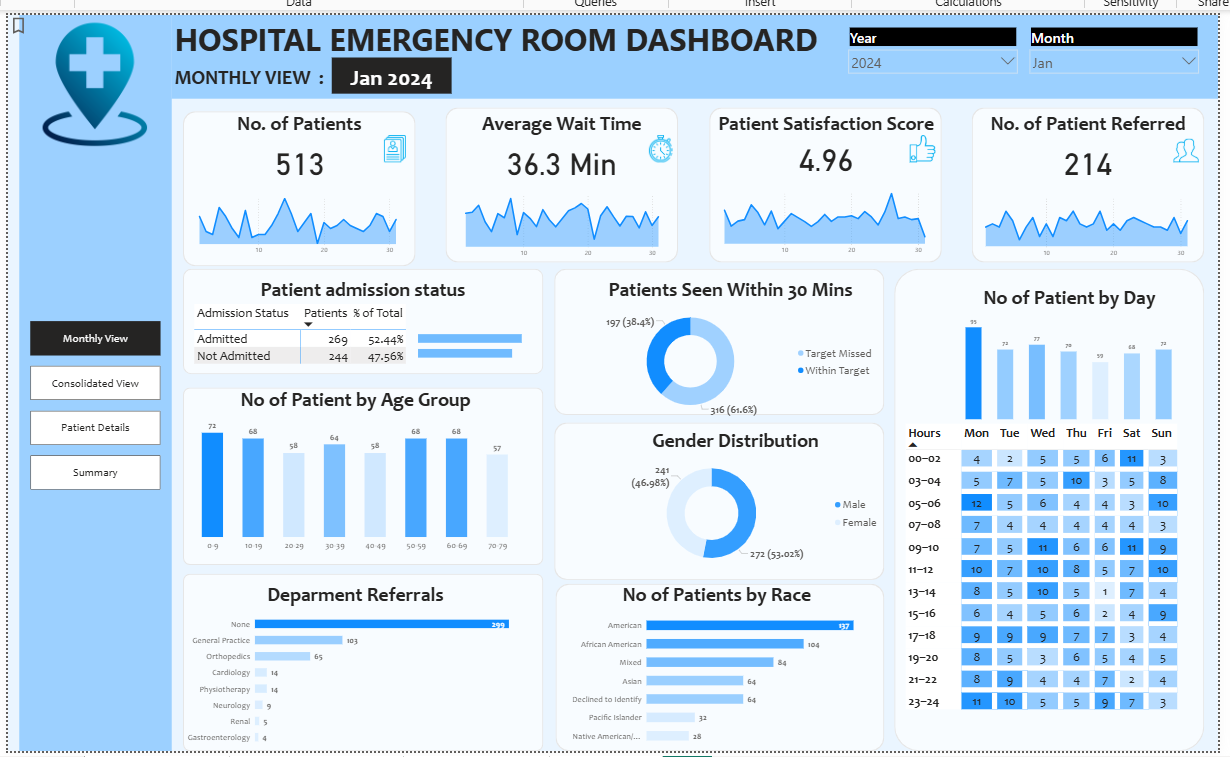

This screenshot's page, from the dashboard's own definition file:
{"tool":"powerbi","page":{"name":"Monthly View","canvas":[2302,1400],"ordinal":0},"visuals":[{"type":"shape","box":[21.4,0,290.1,1400.5],"z":0},{"type":"shape","box":[311.5,0,1990.2,159.3],"z":1000},{"type":"textbox","box":[310.8,0,1265.3,90.6],"z":2000},{"type":"textbox","box":[311.5,90.4,304.3,69],"z":3000},{"type":"slicer","fields":{"Values":["Date Table.year"]},"box":[1588.3,19,342.4,121.3],"z":4000},{"type":"slicer","fields":{"Values":["Date Table.Month Name"]},"box":[1933.1,19,342.4,121.3],"z":5000},{"type":"shape","box":[332.9,183.1,442.3,294.8],"z":6000},{"type":"card","title":"No. of Patients","fields":{"Values":["All measures.No of Patient"]},"box":[389.9,183.1,328.1,140.3],"z":7000},{"type":"areaChart","fields":{"Category":["Date Table.Date.Variation.Date Hierarchy.Day"],"Y":["All measures.No of Patient"]},"box":[350,335.3,403.8,129.7],"z":8000},{"type":"card","fields":{"Values":["Min(Date Table.month and year)"]},"box":[615.8,80.8,228.3,69],"z":9000},{"type":"shape","box":[833,176,442.3,294.8],"z":10000},{"type":"shape","box":[1833.2,176,442.3,294.8],"z":11000},{"type":"shape","box":[1333.1,176,442.3,294.8],"z":12000},{"type":"card","title":"Average Wait Time","fields":{"Values":["All measures.Average wait time"]},"box":[889.3,183.1,328.1,140.3],"z":13000},{"type":"card","title":"No. of Patient Referred","fields":{"Values":["All measures.No. of Patient Referred"]},"box":[1861.8,183.1,385.2,142.7],"z":14000},{"type":"areaChart","fields":{"Category":["Date Table.Date.Variation.Date Hierarchy.Day"],"Y":["Avg(hospital data.Patient Waittime)"]},"box":[856.6,327.9,396.5,141.9],"z":15000},{"type":"card","title":"Patient Satisfaction Score","fields":{"Values":["All measures.Patient Satisfaction score"]},"box":[1336.3,183.1,439.9,126],"z":16000},{"type":"areaChart","fields":{"Y":["All measures.Patient Satisfaction score"],"Category":["Date Table.Date.Variation.Date Hierarchy.Day"]},"box":[1348.5,325.5,411.2,139.5],"z":17000},{"type":"areaChart","fields":{"Category":["Date Table.Date.Variation.Date Hierarchy.Day"],"Y":["All measures.No. of Patient Referred"]},"box":[1845.3,335.3,413.6,134.6],"z":18000},{"type":"shape","box":[332.8,482.1,685.3,200.7],"z":19000},{"type":"pivotTable","title":"Patient admission status","fields":{"Rows":["hospital data.Patient Admission status"],"Values":["All measures.No of Patient","Divide(All measures.No of Patient, ScopedEval(All measures.No of Patient, []))"]},"box":[350,499.3,651,210.5],"z":20000},{"type":"clusteredBarChart","title":"Patient admission status","fields":{"Category":["hospital data.Patient Admission status"],"Y":["All measures.No of Patient"]},"box":[775.8,580,230,93],"z":21000},{"type":"shape","box":[332.8,709.7,685.3,337.7],"z":22000},{"type":"clusteredColumnChart","fields":{"Category":["hospital data.Age Group"],"Y":["All measures.No of Patient"]},"box":[332.9,708.6,656.3,318.6],"z":23000},{"type":"shape","box":[332.8,1062.1,685.3,337.7],"z":24000},{"type":"clusteredBarChart","title":"Deparment  Referrals","fields":{"Category":["hospital data.Department Referral"],"Y":["All measures.No of Patient"]},"box":[332.8,1079.3,655.9,320.6],"z":25000},{"type":"shape","box":[1039.1,482.7,627.7,278.2],"z":26000},{"type":"donutChart","title":"Patients Seen Within 30 Mins","fields":{"Category":["hospital data.wait time status"],"Y":["All measures.No of Patient"]},"box":[1091.4,499.3,565.9,273.4],"z":27000},{"type":"shape","box":[1039.1,775.1,627.7,299.6],"z":28000},{"type":"donutChart","title":"Gender Distribution","fields":{"Y":["All measures.No of Patient"],"Category":["hospital data.Patient Gender"]},"box":[1100.9,787,565.9,275.8],"z":29000},{"type":"shape","box":[1041.4,1081.9,625.3,318.6],"z":30000},{"type":"clusteredBarChart","title":"No of  Patients by Race","fields":{"Y":["All measures.No of Patient"],"Category":["hospital data.Patient Race"]},"box":[1055.7,1079.5,584.9,321],"z":31000},{"type":"shape","box":[1685.8,482.7,589.7,917.8],"z":32000},{"type":"pivotTable","fields":{"Rows":["hospital data.Wait time interval"],"Columns":["Date Table.Day Name"],"Values":["All measures.No of Patient"]},"box":[1702.5,772.8,573,627.7],"z":33000},{"type":"clusteredColumnChart","title":"No of Patient by Day ","fields":{"Y":["All measures.No of Patient"],"Category":["Date Table.Day Name"]},"box":[1816.6,513.6,404.2,261.6],"z":34000},{"type":"image","box":[42.8,9.5,244.9,244.9],"z":35000},{"type":"image","box":[696.7,223.5,78.5,61.8],"z":36000},{"type":"image","box":[2206.5,230.6,69,54.7],"z":37000},{"type":"image","box":[1702.5,223.5,73.7,61.8],"z":38000},{"type":"image","box":[1207.9,223.5,66.6,61.8],"z":39000},{"type":"pageNavigator","box":[42.8,582.5,247.3,321],"z":40000},{"type":"actionButton","box":[0,0,100,40],"z":41000}]}

Visuals, with their boxes on the page's 2302x1400 design canvas (x1, y1, x2, y2). These are canvas units, not pixel positions in the 1230x757 screenshot, which may show the page scaled, cropped or inside an application window:
shape: (21,0,312,1400)
shape: (312,0,2302,159)
textbox: (311,0,1576,91)
textbox: (312,90,616,159)
slicer - Date Table.year: (1588,19,1931,140)
slicer - Date Table.Month Name: (1933,19,2276,140)
shape: (333,183,775,478)
"No. of Patients" card: (390,183,718,323)
areaChart - Date Table.Date.Variation.Date Hierarchy.Day x All measures.No of Patient: (350,335,754,465)
card - Min(Date Table.month and year): (616,81,844,150)
shape: (833,176,1275,471)
shape: (1833,176,2276,471)
shape: (1333,176,1775,471)
"Average Wait Time" card: (889,183,1217,323)
"No. of Patient Referred" card: (1862,183,2247,326)
areaChart - Date Table.Date.Variation.Date Hierarchy.Day x Avg(hospital data.Patient Waittime): (857,328,1253,470)
"Patient Satisfaction Score" card: (1336,183,1776,309)
areaChart - All measures.Patient Satisfaction score x Date Table.Date.Variation.Date Hierarchy.Day: (1348,326,1760,465)
areaChart - Date Table.Date.Variation.Date Hierarchy.Day x All measures.No. of Patient Referred: (1845,335,2259,470)
shape: (333,482,1018,683)
"Patient admission status" pivotTable: (350,499,1001,710)
"Patient admission status" clusteredBarChart: (776,580,1006,673)
shape: (333,710,1018,1047)
clusteredColumnChart - hospital data.Age Group x All measures.No of Patient: (333,709,989,1027)
shape: (333,1062,1018,1400)
"Deparment  Referrals" clusteredBarChart: (333,1079,989,1400)
shape: (1039,483,1667,761)
"Patients Seen Within 30 Mins" donutChart: (1091,499,1657,773)
shape: (1039,775,1667,1075)
"Gender Distribution" donutChart: (1101,787,1667,1063)
shape: (1041,1082,1667,1400)
"No of  Patients by Race" clusteredBarChart: (1056,1080,1641,1400)
shape: (1686,483,2276,1400)
pivotTable - hospital data.Wait time interval x Date Table.Day Name: (1702,773,2276,1400)
"No of Patient by Day " clusteredColumnChart: (1817,514,2221,775)
image: (43,10,288,254)
image: (697,224,775,285)
image: (2206,231,2276,285)
image: (1702,224,1776,285)
image: (1208,224,1274,285)
pageNavigator: (43,582,290,904)
actionButton: (0,0,100,40)
